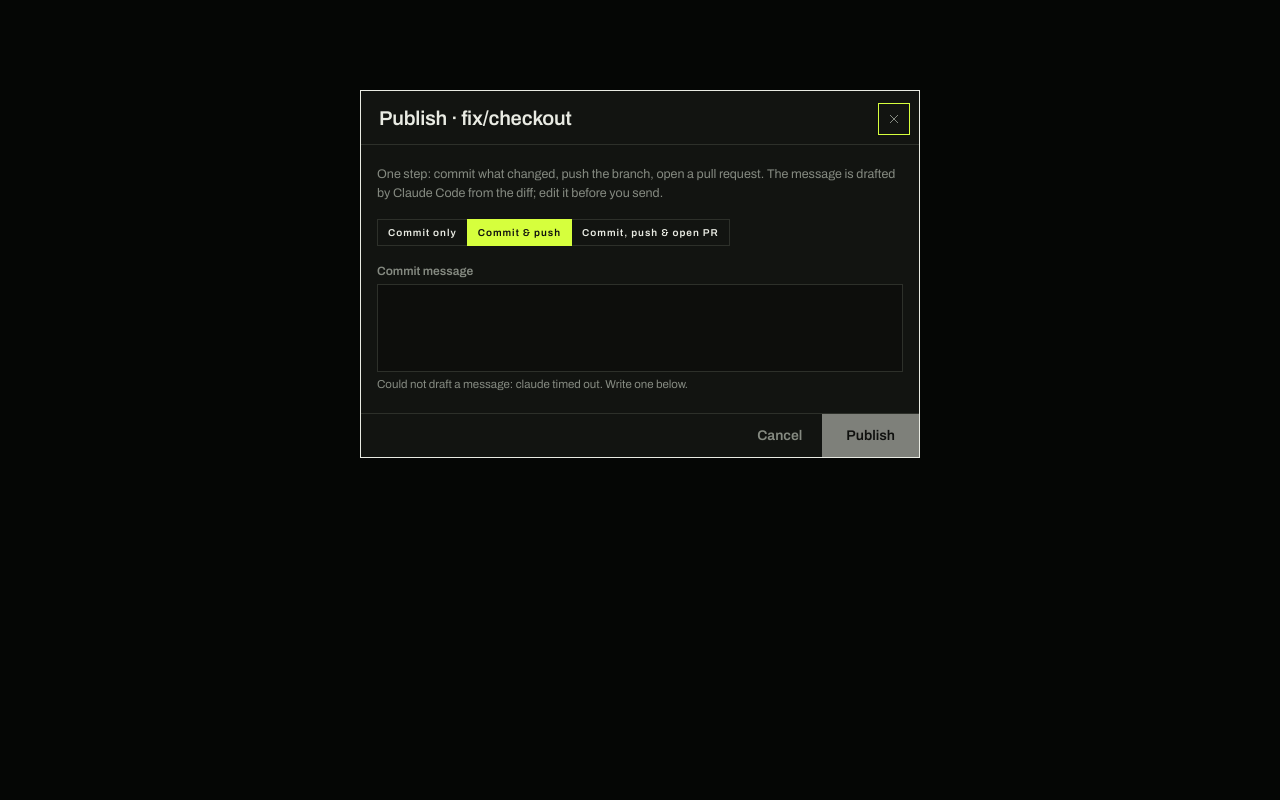
Scenario: PublishModal › shows "Drafting…" while the agent works and the failure text with an empty field when it cannot
expect the button "Publish" is disabled: met, box [822,414,919,457]
expect the text "Could not draft a message: claude timed out. Write one below." is shown: met, box [377,378,688,390]
Type "My own message" into the text box labelled "Commit message" at (640, 328), box [377,284,903,372]
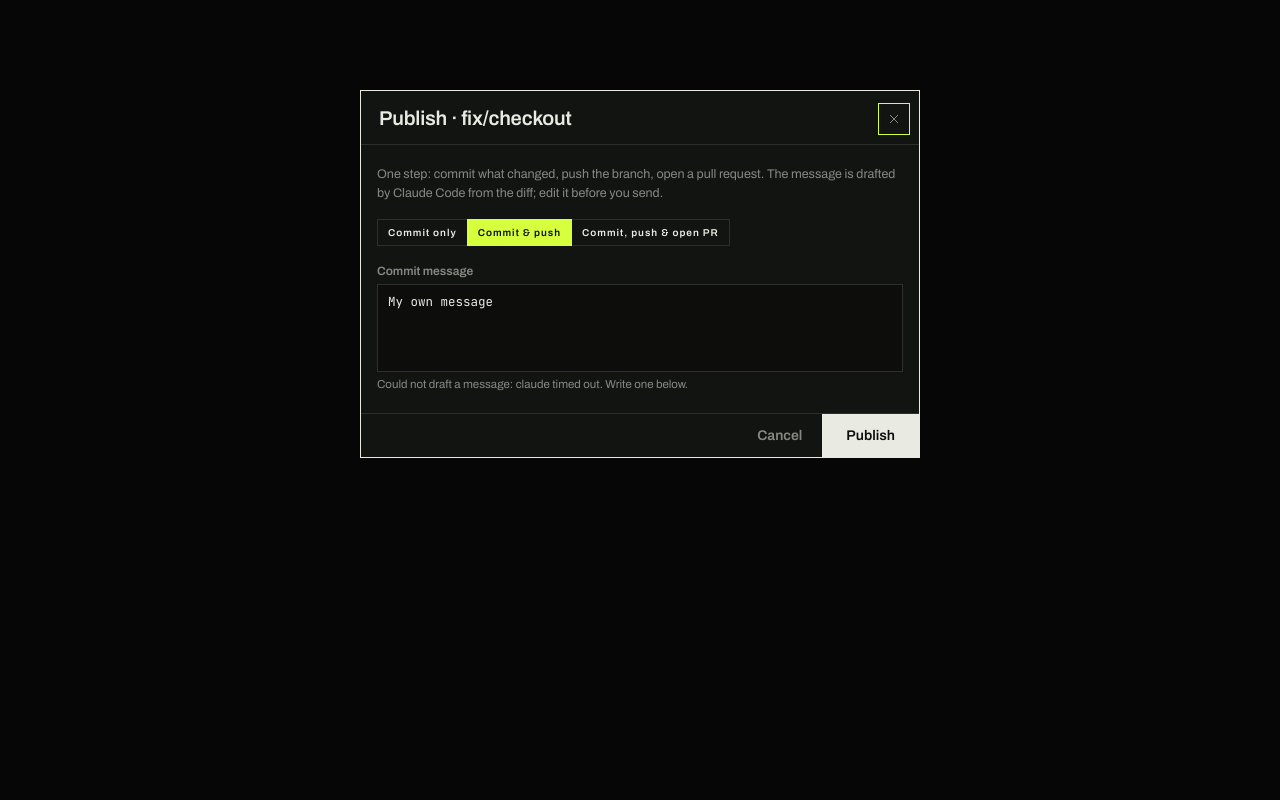
expect the button "Publish" is enabled: met, box [822,414,919,457]
